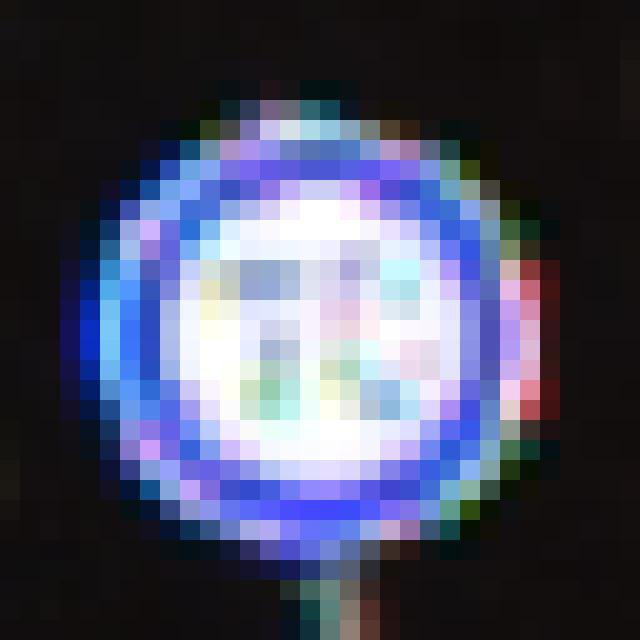SPEED LIMIT 70: (79, 99, 558, 567)
